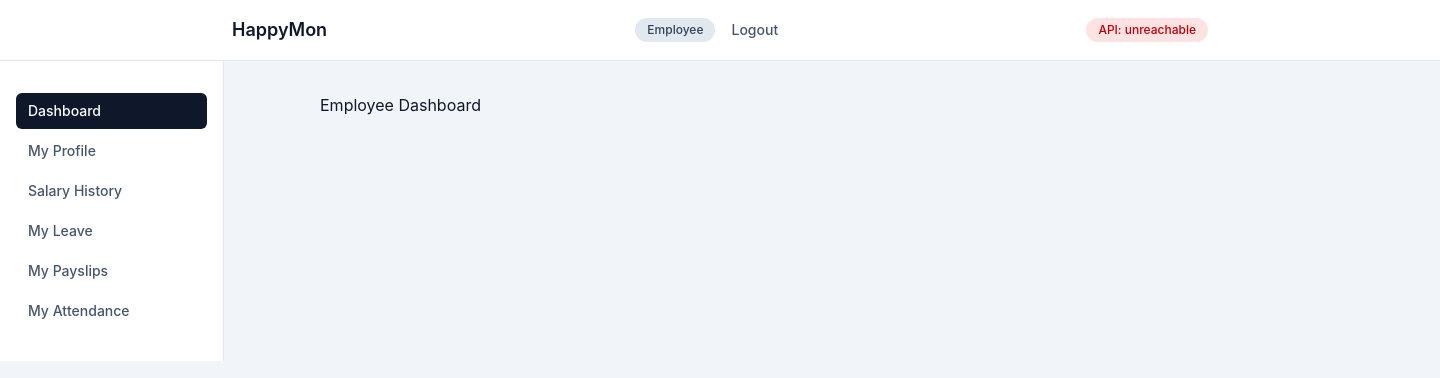
Test: AppLayout › EMPLOYEE › navigates to /employee/attendance via the sidebar My Attendance link
The width and height of the screenshot is (1440, 378).
Click the link "My Attendance".
click(79, 310)  # box top-left (28, 302), bottom-right (130, 319)
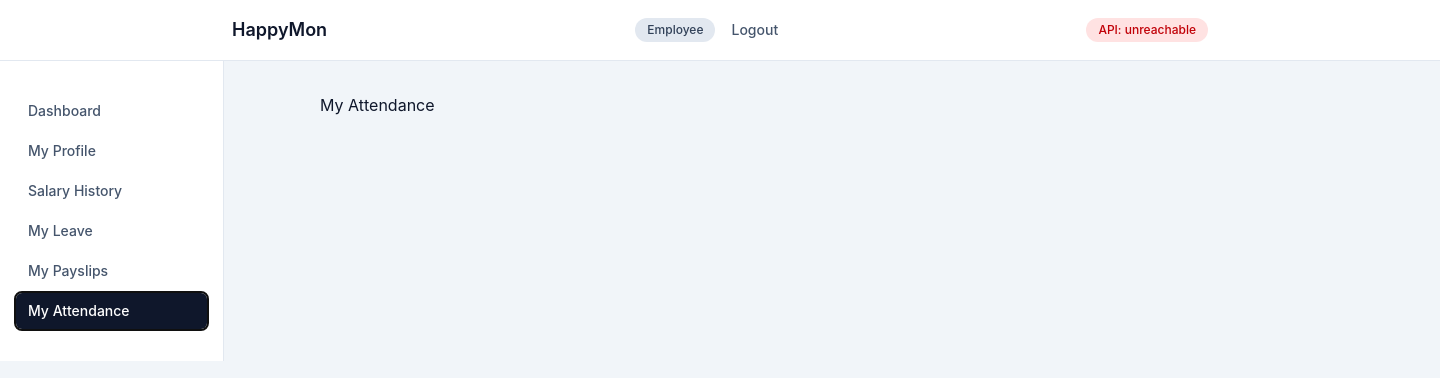
Expected: the heading "My Attendance" is shown, top-left (320, 95), bottom-right (434, 115)
